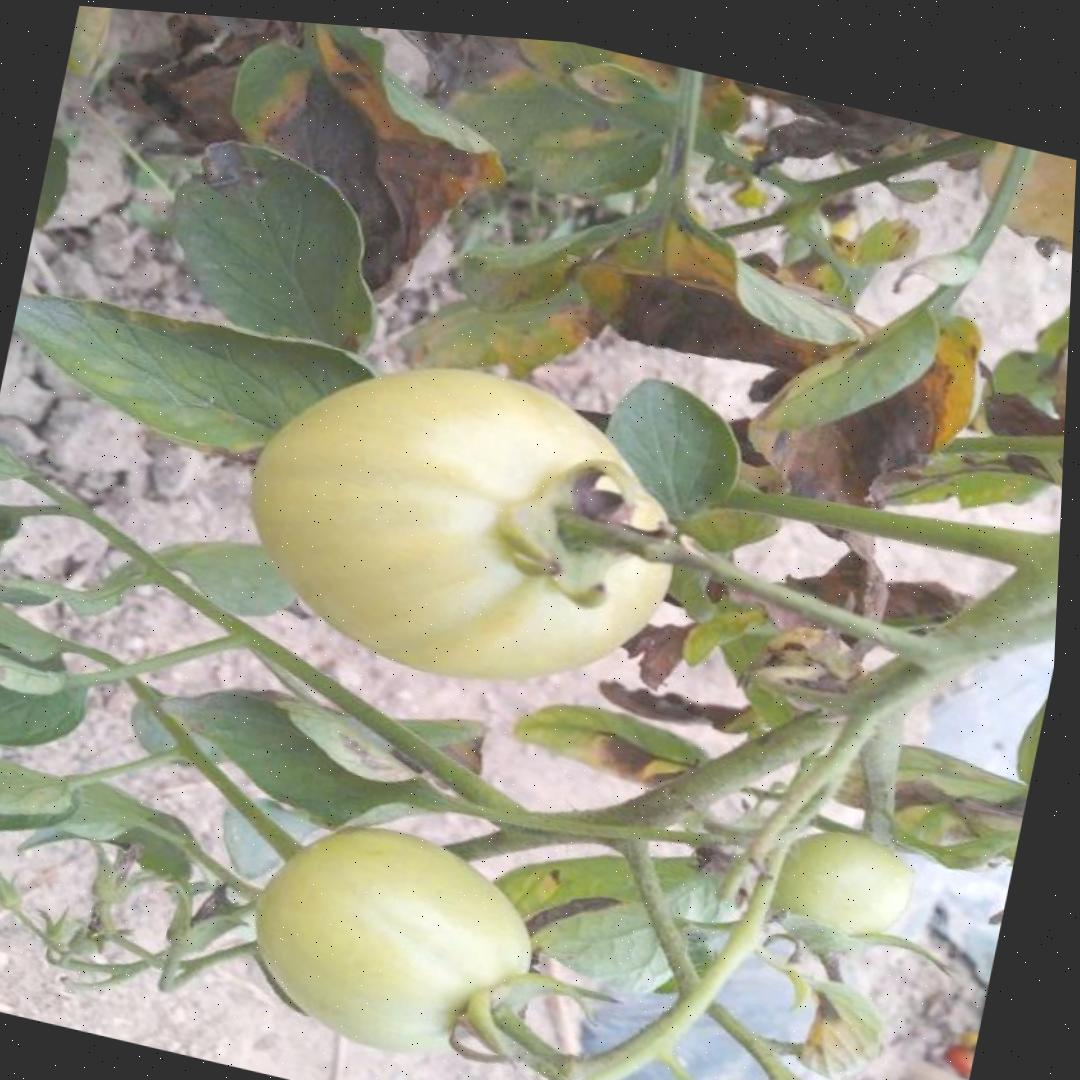mentah: (220, 320, 709, 719), (231, 801, 553, 1080), (743, 810, 922, 961)
